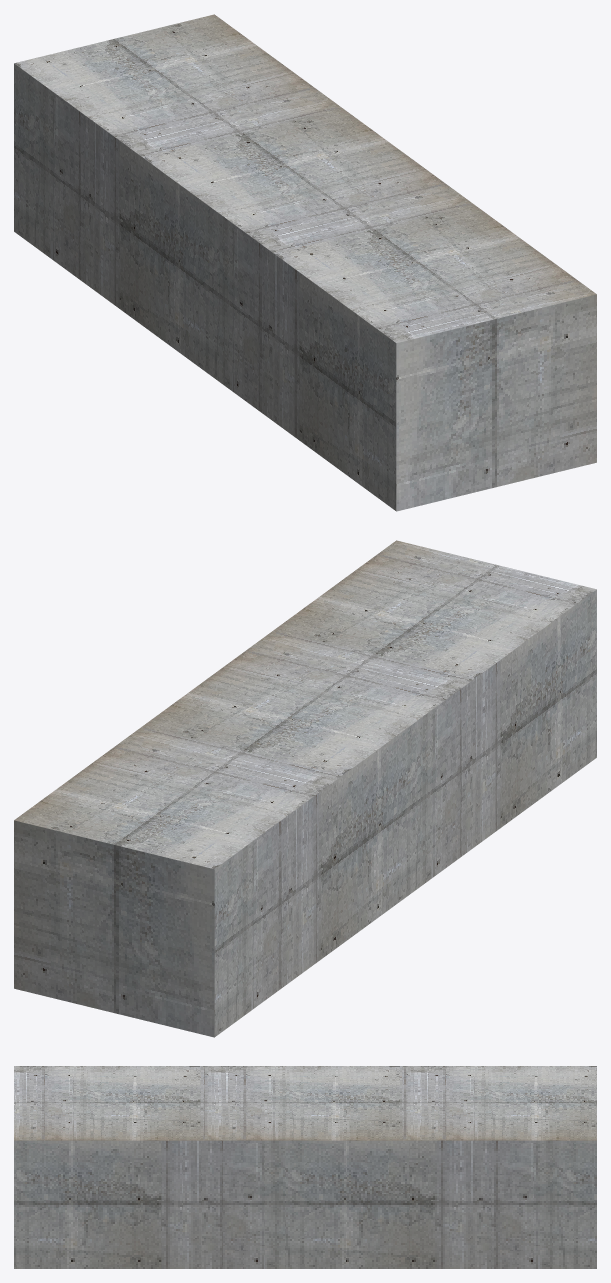
The model's file is concsupport1.glb.
The picture shows the model from 3 angles, top to bottom: view 1: azimuth 30°, elevation 25°; view 2: azimuth 150°, elevation 25°; view 3: azimuth 270°, elevation 25°; orthographic projection. The views are drawn at different scales.
Visible parts, largest first — view 1: concsupport; view 2: concsupport; view 3: concsupport.
Part boxes in pixels (box(x1,y1,x2,y2)): concsupport: box(14, 14, 596, 511); concsupport: box(14, 540, 596, 1037); concsupport: box(14, 1066, 596, 1268).
Bounding box in the file's own units: 2.42 × 1.94 × 8.
1 material, 1 textured.
